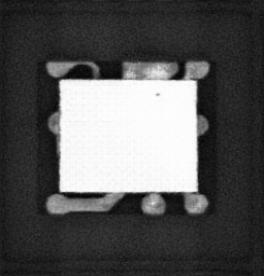DIE_INK: (154, 89, 162, 98)
